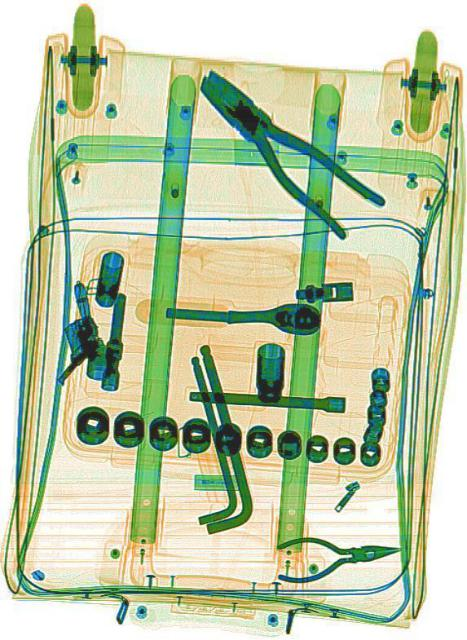Gun: (37, 278, 104, 384)
Pliers: (187, 46, 384, 254), (274, 525, 402, 585)
